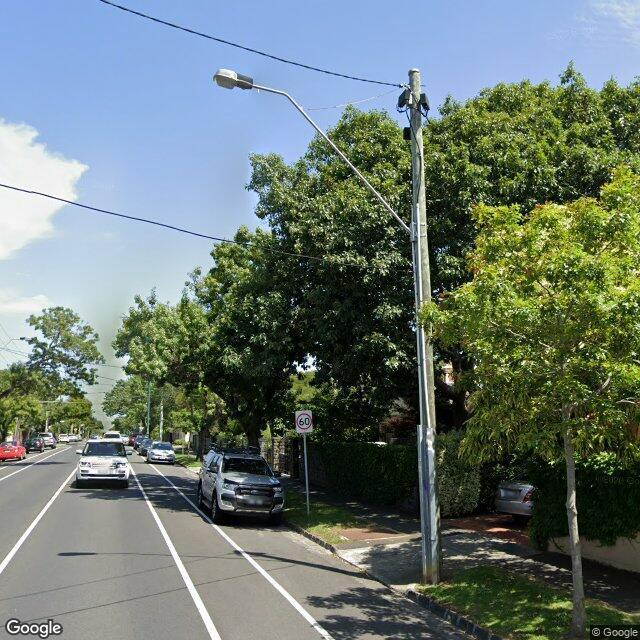streetlight: (214, 68, 415, 240)
timber-pole: (410, 70, 442, 584)
